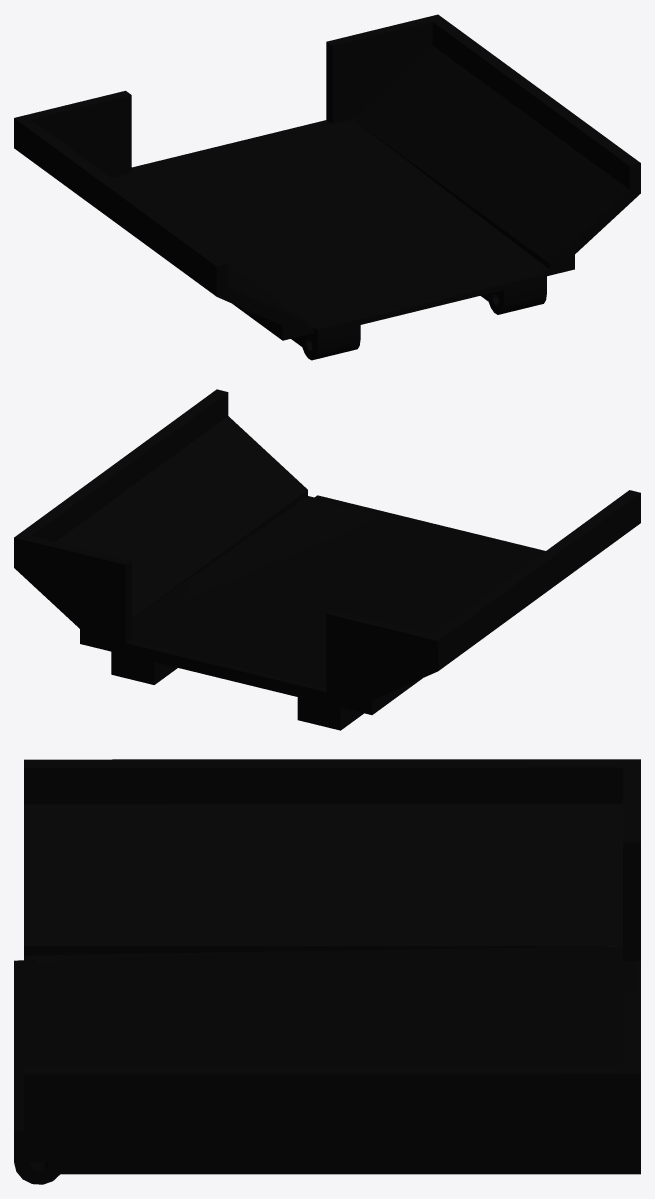
The model's file is kuzov.fbx.
3 views of the same model, one above another, from view 1: azimuth 30°, elevation 25°; view 2: azimuth 150°, elevation 25°; view 3: azimuth 270°, elevation 25° (orthographic). The views are drawn at different scales.
Parts seen in each view (by area): view 1: kuzov.001; view 2: kuzov.001; view 3: kuzov.001.
Part boxes in pixels (x1,y1,x2,y2): kuzov.001: (14,14,640,360); kuzov.001: (14,389,640,730); kuzov.001: (14,759,640,1184).
Size of the model in its own units: 14.8 by 4.01 by 12.46.
Materials: 1 (1 with a texture image).
